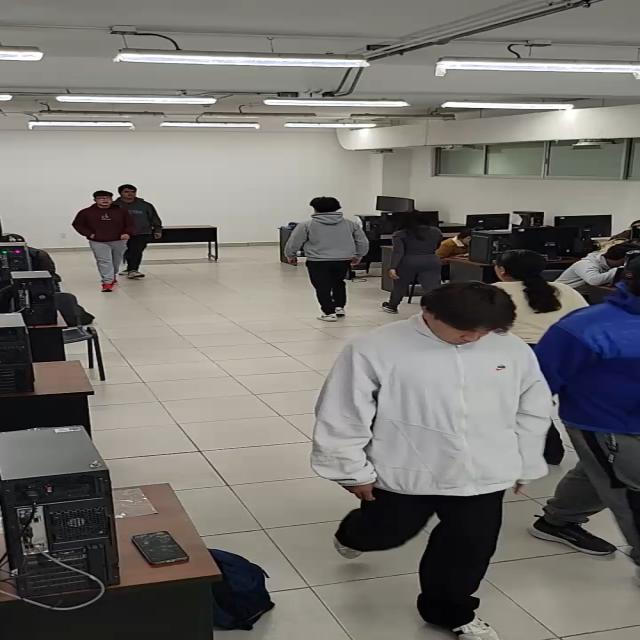Persona: (324, 281, 529, 640), (281, 194, 368, 324), (492, 246, 574, 336), (72, 190, 131, 294), (382, 206, 443, 305), (114, 184, 156, 277)
